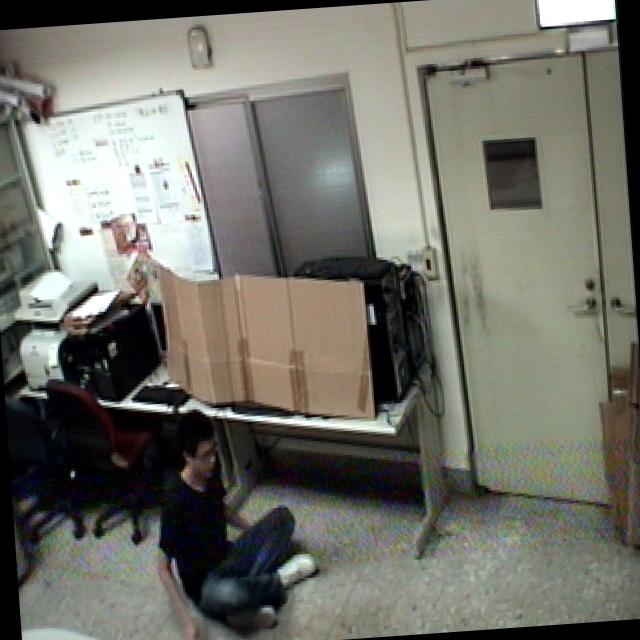sit: (139, 395, 328, 640)
